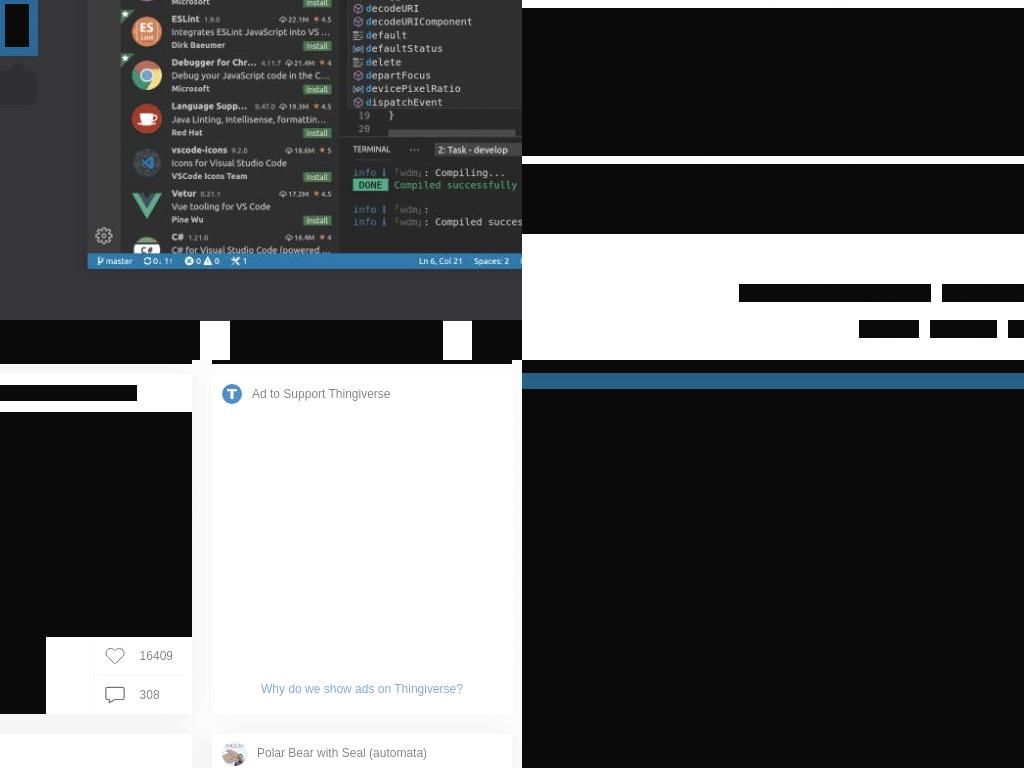button: (0, 412, 192, 637), (230, 320, 443, 360), (0, 320, 200, 360), (0, 637, 46, 714), (104, 646, 173, 666), (104, 685, 160, 705), (222, 740, 247, 766)
heading: (522, 616, 832, 696)
iframe: (522, 389, 1024, 768), (212, 414, 512, 664)
image: (0, 412, 192, 637), (5, 4, 29, 47), (70, 339, 118, 360), (312, 339, 360, 360), (222, 740, 247, 766), (104, 646, 125, 666), (104, 685, 125, 705), (227, 389, 237, 399)
link: (745, 284, 925, 302), (803, 138, 973, 156), (899, 8, 1024, 26), (562, 34, 686, 52), (788, 34, 908, 52), (522, 8, 613, 26), (942, 284, 1024, 302), (930, 320, 997, 338), (859, 320, 919, 338)
text: (522, 60, 1024, 156), (522, 8, 1024, 52), (522, 34, 1024, 78), (522, 164, 1024, 208), (522, 190, 1024, 234), (522, 720, 832, 752), (611, 8, 900, 26), (0, 637, 46, 714), (261, 681, 463, 697), (257, 745, 457, 761), (252, 383, 391, 405), (0, 385, 137, 401), (0, 745, 137, 761), (686, 34, 790, 52), (972, 138, 1024, 156), (139, 646, 173, 666), (139, 685, 160, 705), (739, 284, 746, 302), (924, 284, 931, 302)
